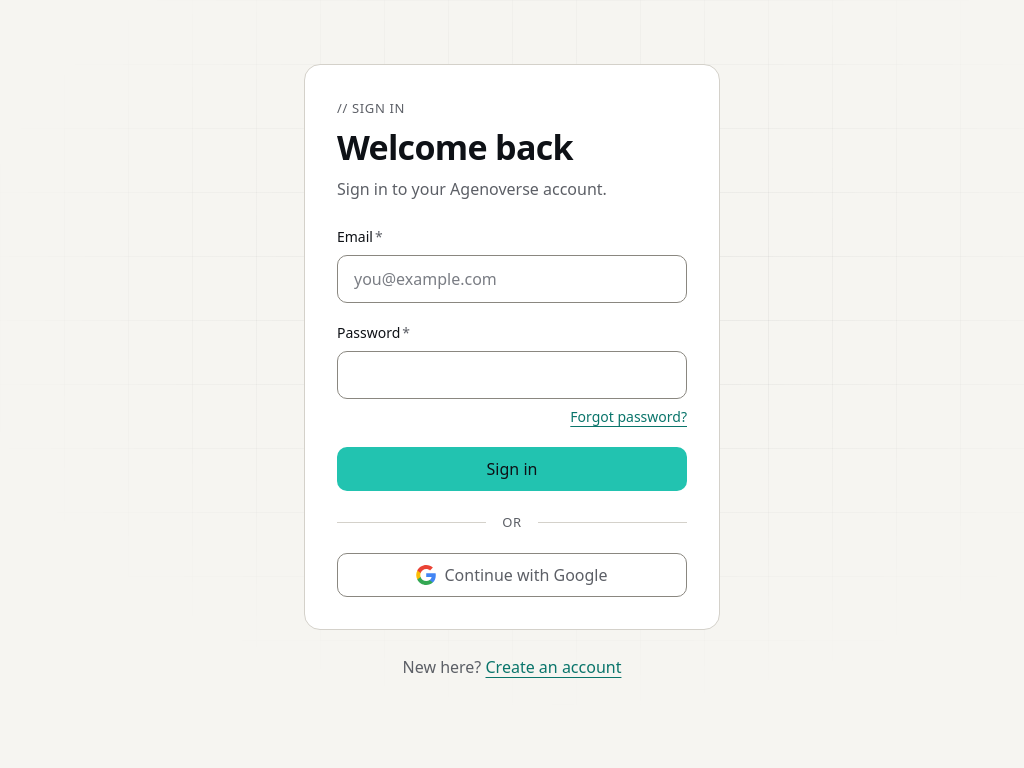
Test case: Sign in › explains a closed Google popup, and links Forgot password with the typed email
The image size is (1024, 768).
Type "ada@example.com" into the field labelled "Email*". click: (512, 279)
box: [337,255,687,303]
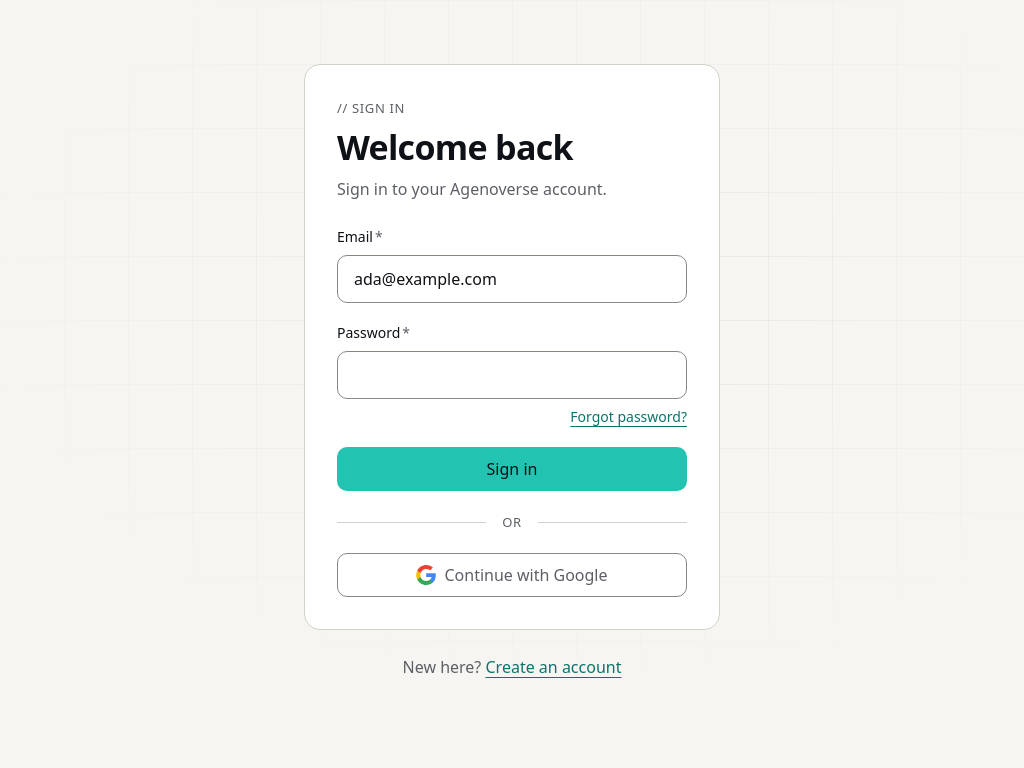
Click the button "Continue with Google". click: click(512, 575)
box: [337,553,687,597]
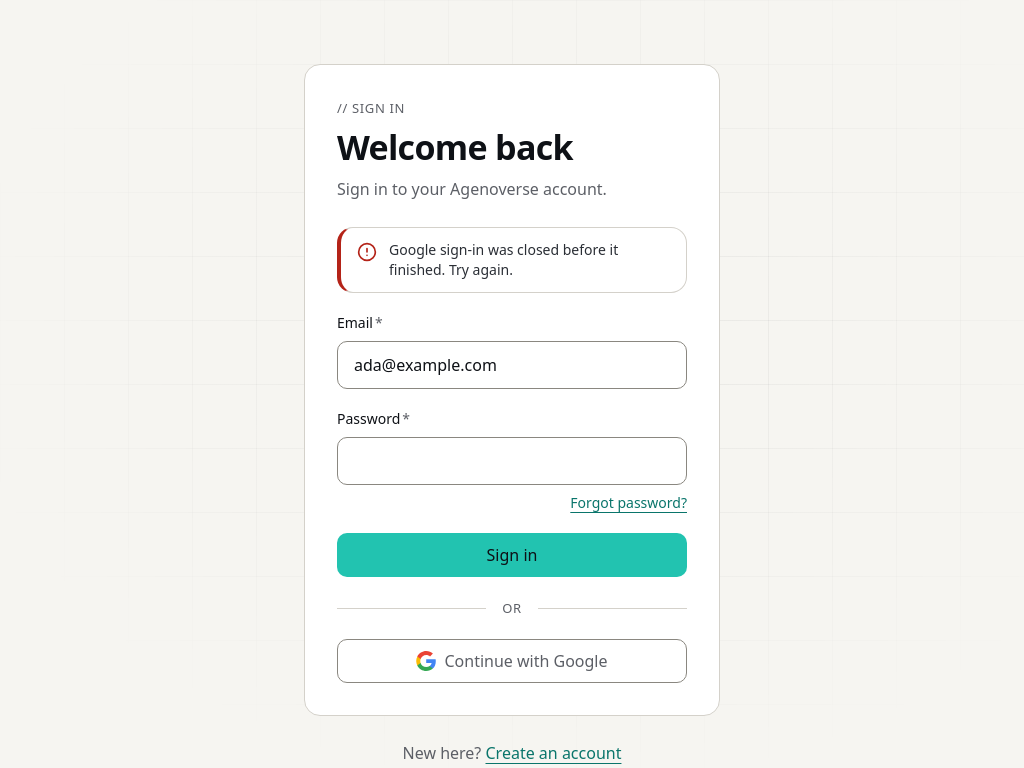
Check: the text "Google sign-in was closed before it finished. Try again." is shown, box [389,240,618,279]
